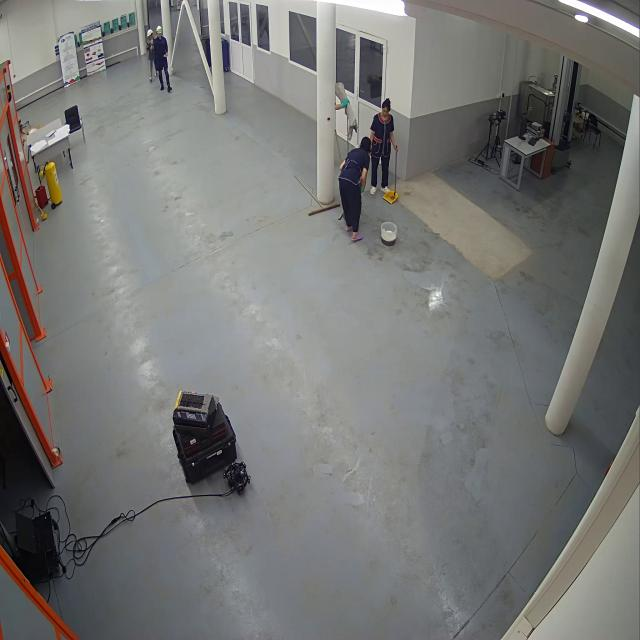Hardhat: (146, 24, 154, 35), (156, 22, 163, 34)
NO-Hardhat: (362, 133, 372, 144), (383, 98, 392, 110)
Person: (342, 136, 376, 245), (371, 99, 399, 198), (153, 25, 174, 94), (146, 26, 158, 81), (336, 92, 351, 125)
